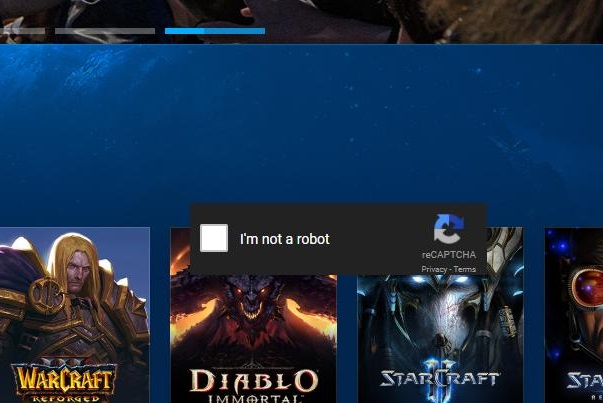captcha: (199, 223, 334, 253)
